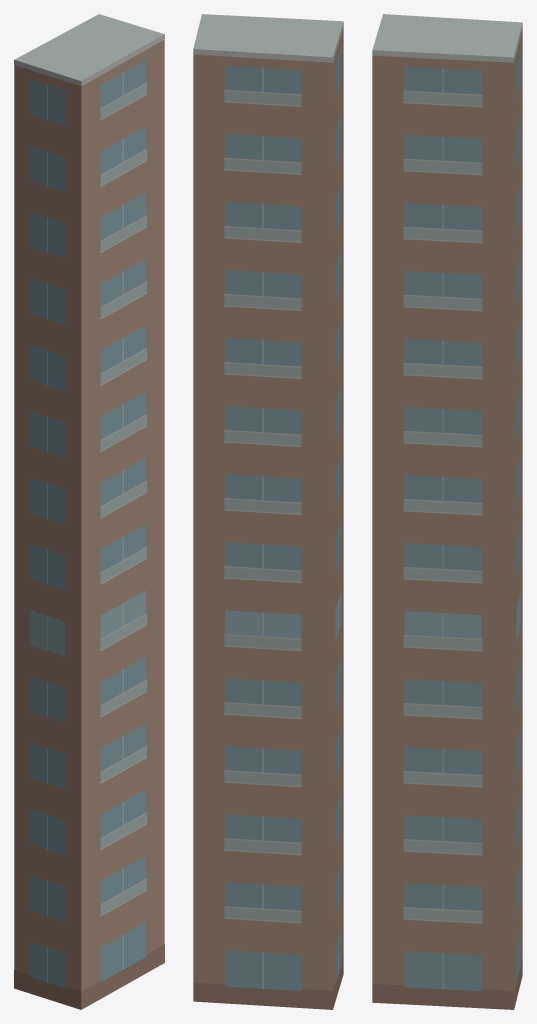
File: survey-upis-33019577.glb
3 views of the same model, side by side, from view 1: azimuth 30°, elevation 25°; view 2: azimuth 150°, elevation 25°; view 3: azimuth 330°, elevation 25° (orthographic). The views are drawn at different scales.
Visible parts, largest first — view 1: survey-upis-33019577.tmp; view 2: survey-upis-33019577.tmp; view 3: survey-upis-33019577.tmp.
Boxes of the visible parts, bbox=[...] form: survey-upis-33019577.tmp: bbox=[14, 14, 164, 1009]; survey-upis-33019577.tmp: bbox=[193, 14, 343, 1009]; survey-upis-33019577.tmp: bbox=[372, 14, 522, 1009].
Size of the model in its own units: 6.7 by 42.7 by 5.38.
